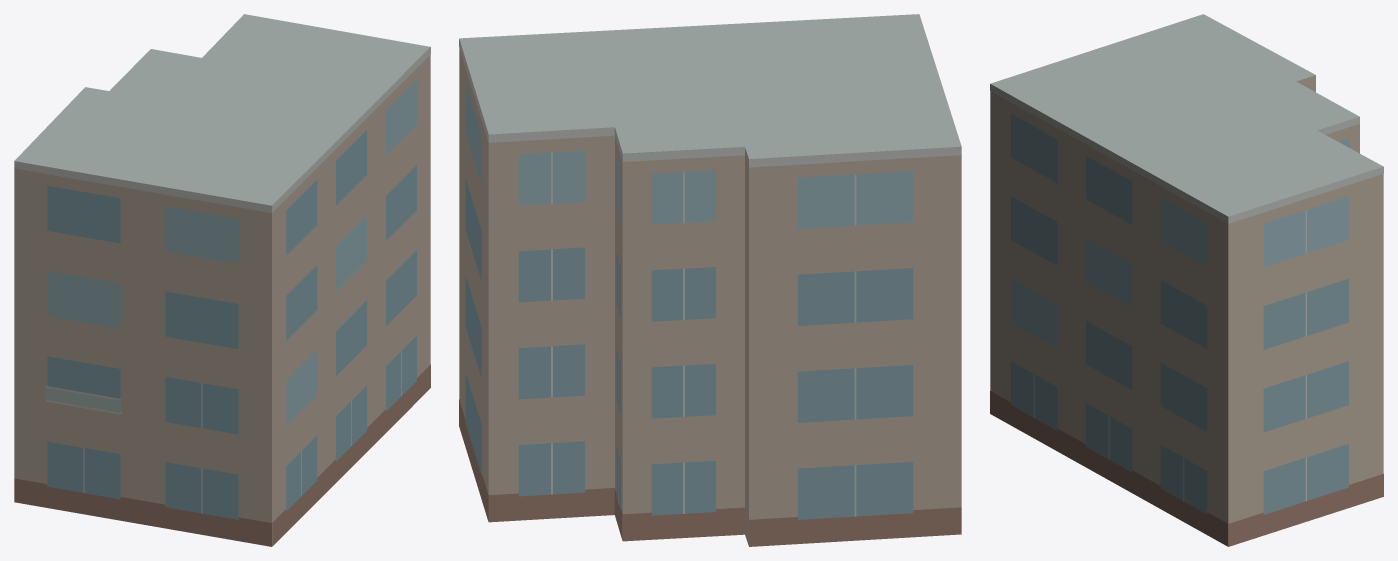
File: survey-upis-32529533.glb
3 views of the same model, side by side, from view 1: azimuth 30°, elevation 25°; view 2: azimuth 150°, elevation 25°; view 3: azimuth 270°, elevation 25° (orthographic). The views are drawn at different scales.
Visible parts, largest first — view 1: survey-upis-32529533.tmp; view 2: survey-upis-32529533.tmp; view 3: survey-upis-32529533.tmp.
Boxes of the visible parts, x1=… form: survey-upis-32529533.tmp: x1=14, y1=14, x2=430, y2=546; survey-upis-32529533.tmp: x1=459, y1=14, x2=961, y2=546; survey-upis-32529533.tmp: x1=990, y1=14, x2=1383, y2=546.
Size of the model in its own units: 14.89 by 11.3 by 12.22.
